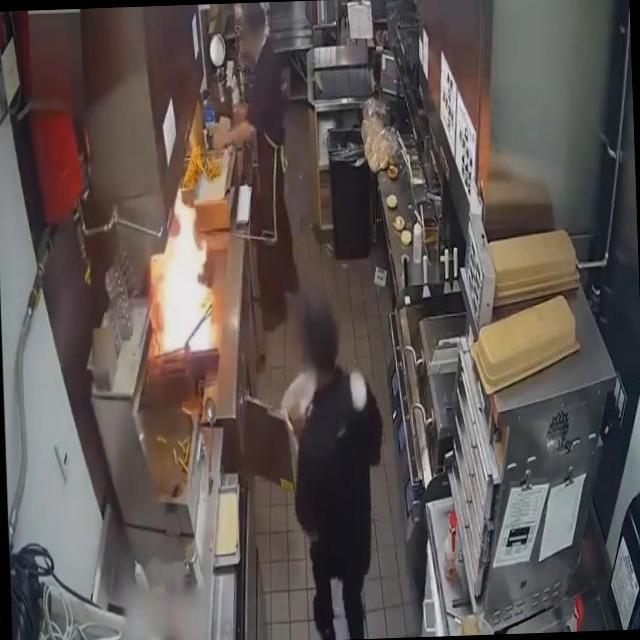fire: (138, 175, 230, 378)
